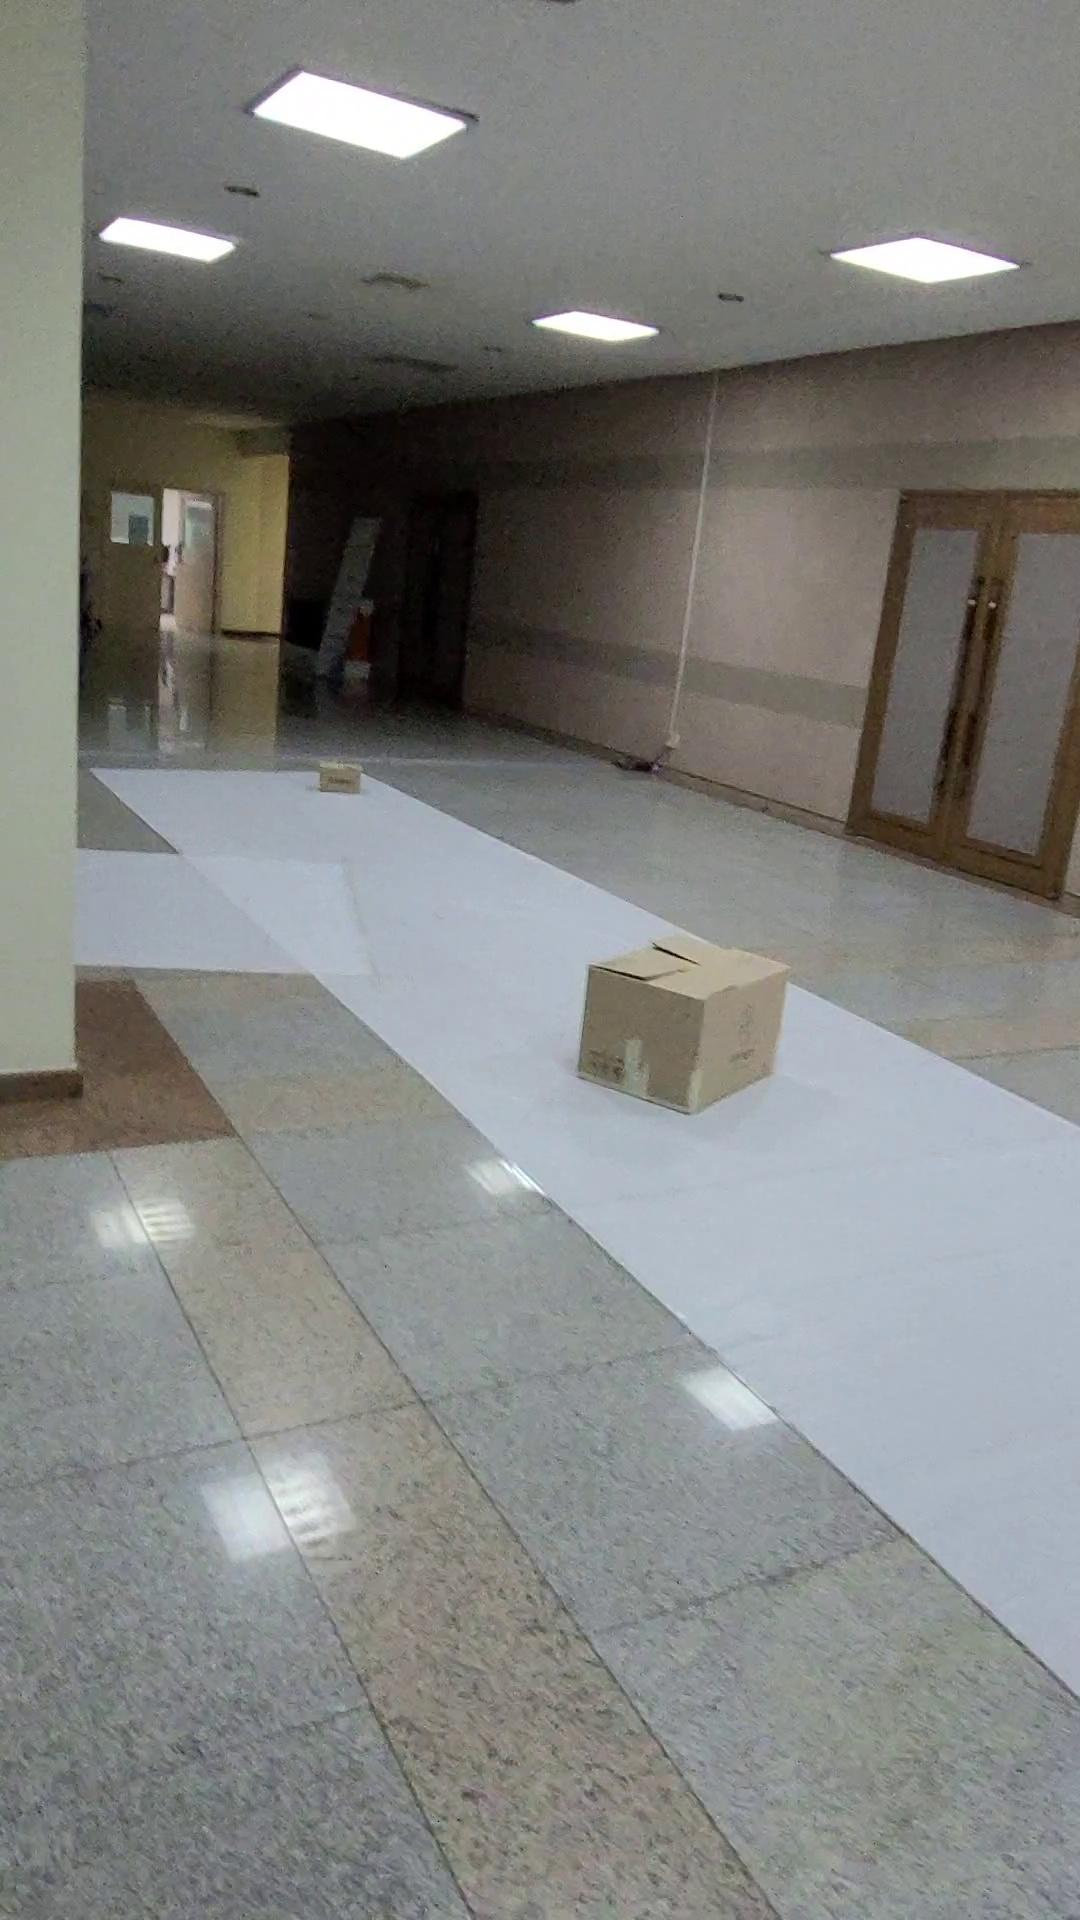Box: (531, 913, 827, 1153), (291, 733, 388, 820)
